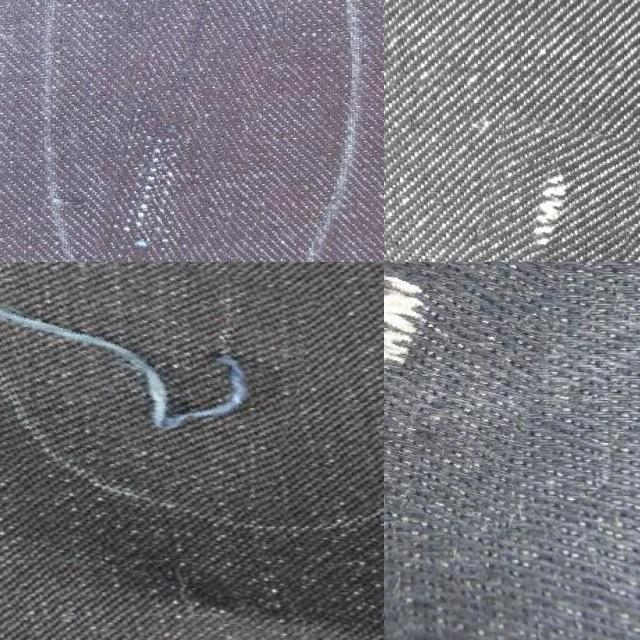Thread_other: (0, 262, 308, 492), (114, 0, 294, 262), (384, 262, 556, 523), (468, 118, 639, 262)
